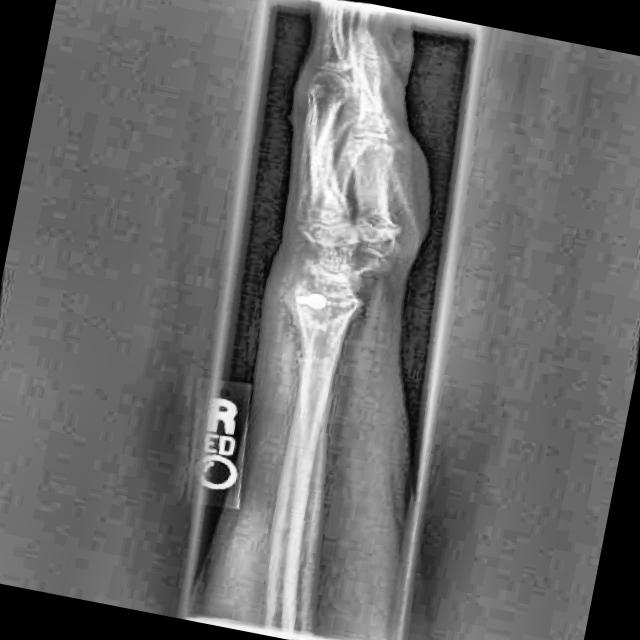wrist positive: (288, 278, 373, 336), (280, 340, 353, 378)
